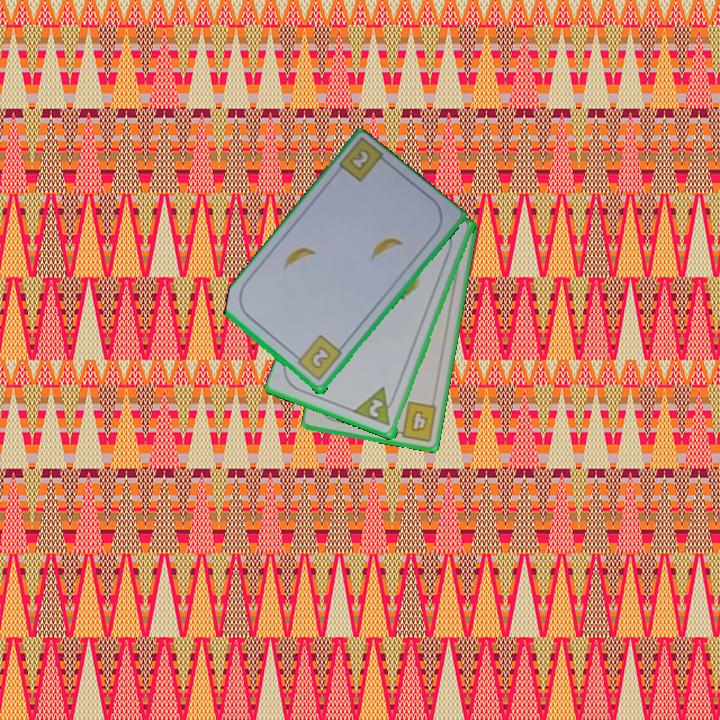2b: (290, 332, 345, 384), (346, 145, 374, 174)
2p: (365, 395, 387, 421)
4b: (391, 398, 440, 444)
